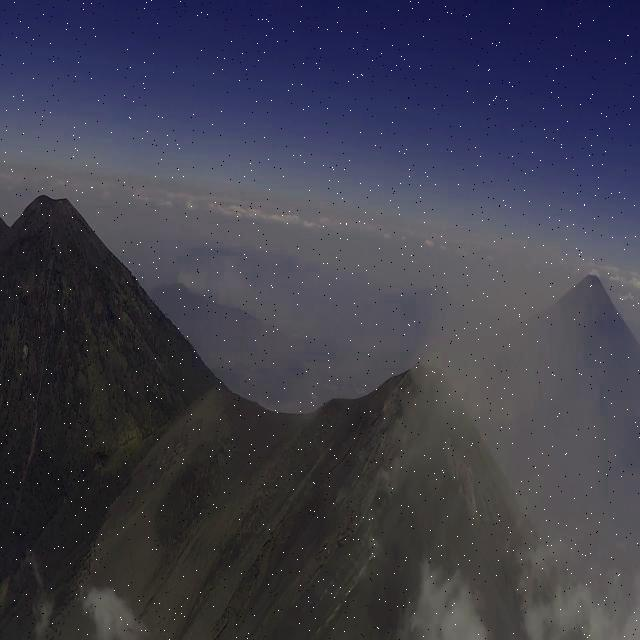Summit: (308, 352, 534, 533)
